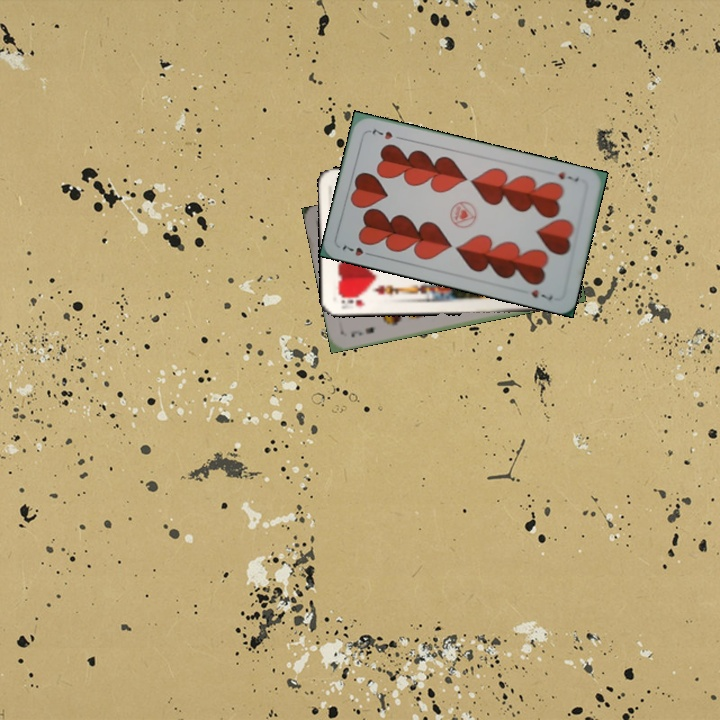E7: (347, 323, 377, 340)
H7: (338, 241, 377, 259), (554, 168, 581, 184)
HK: (335, 291, 368, 309)
